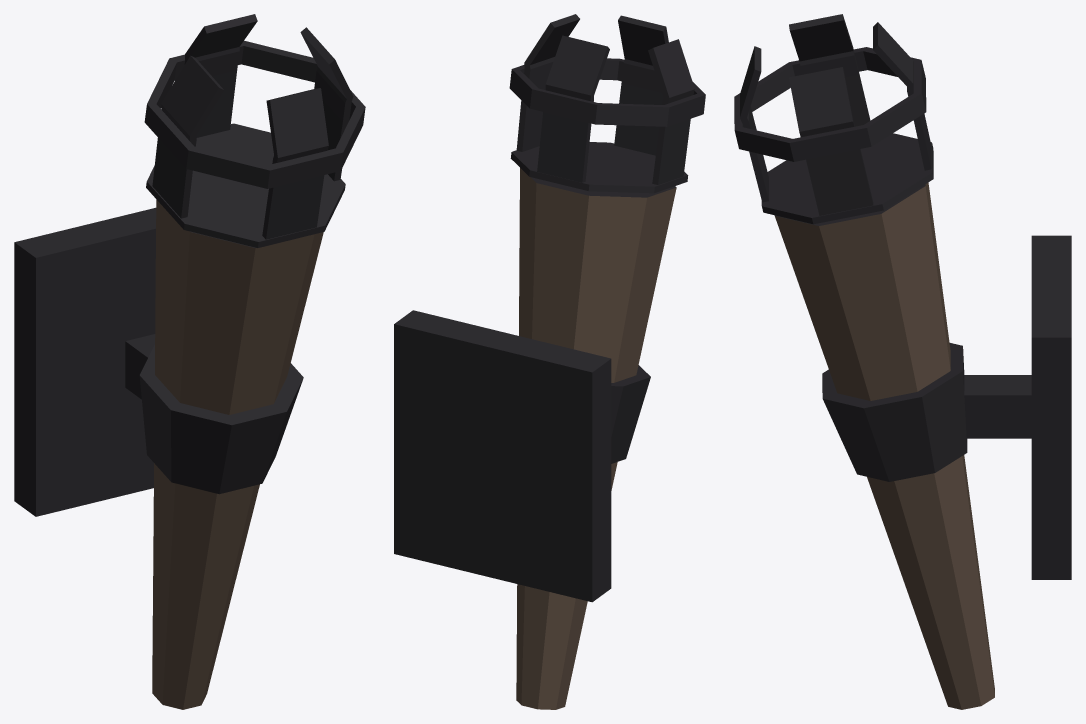
The model's file is WallTorch2.fbx.
The picture shows the model from 3 angles, left to right: view 1: azimuth 30°, elevation 25°; view 2: azimuth 150°, elevation 25°; view 3: azimuth 270°, elevation 25°; orthographic projection. The views are drawn at different scales.
Parts seen in each view (by area): view 1: Cylinder.001; view 2: Cylinder.001; view 3: Cylinder.001.
Boxes of the visible parts, box(x1,y1,x2,y2) form: Cylinder.001: box(14, 14, 365, 709); Cylinder.001: box(394, 14, 705, 709); Cylinder.001: box(734, 14, 1071, 709).
Size of the model in its own units: 14.73 by 45.04 by 20.59.
